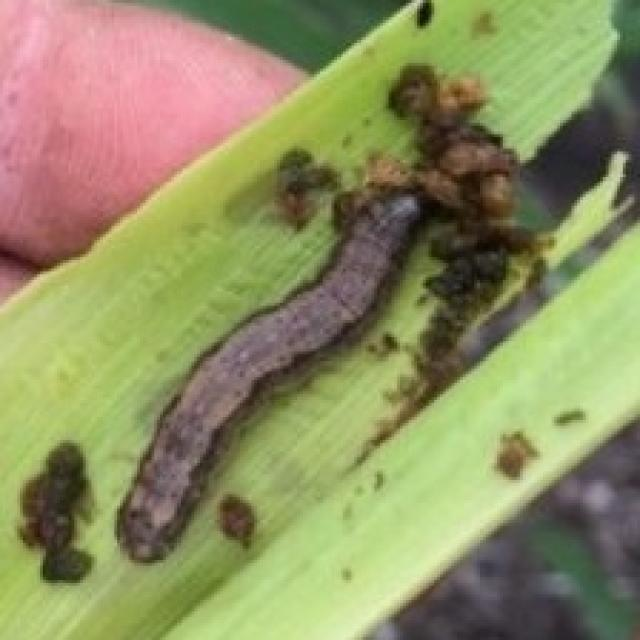Fall-armyworm: (106, 181, 433, 572)
